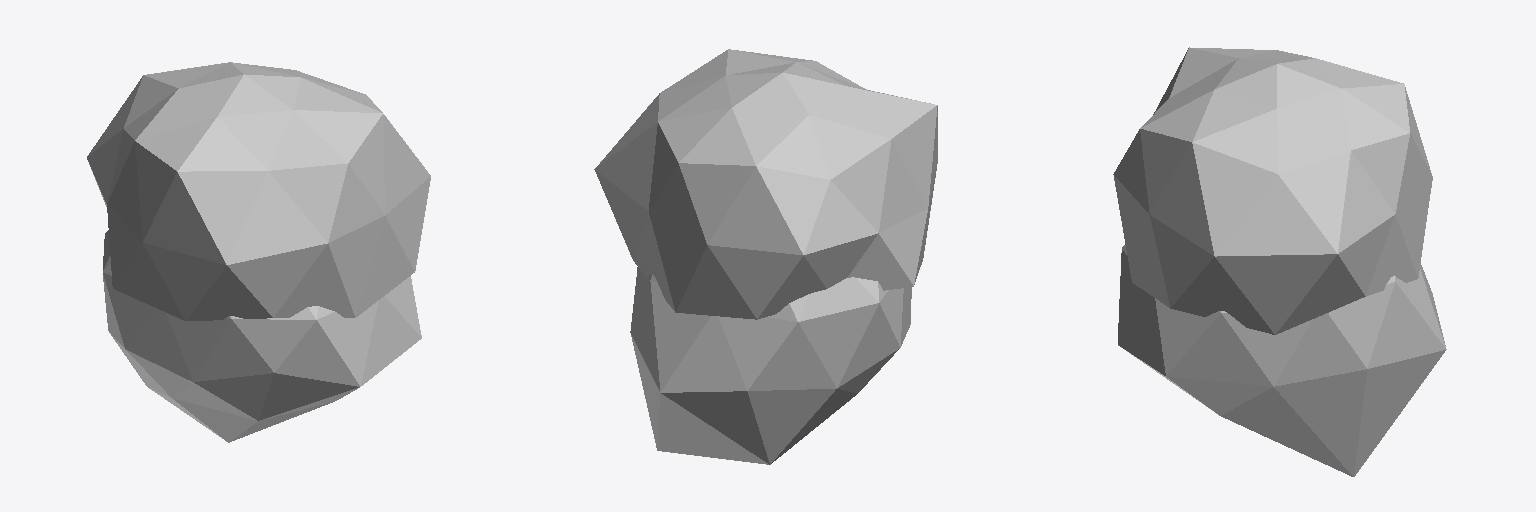
File: meat 4.obj
3 renders of one model, left to right at view 1: azimuth 30°, elevation 25°; view 2: azimuth 150°, elevation 25°; view 3: azimuth 270°, elevation 25°, orthographic.
Visible parts, largest first — view 1: Icosphere.001; view 2: Icosphere.001; view 3: Icosphere.001.
Boxes of the visible parts, box(x1,y1,x2,y2) form: Icosphere.001: box(87, 62, 430, 442); Icosphere.001: box(594, 49, 937, 464); Icosphere.001: box(1113, 47, 1446, 476).
Bounding box in the file's own units: 2.67 × 3.28 × 2.67.